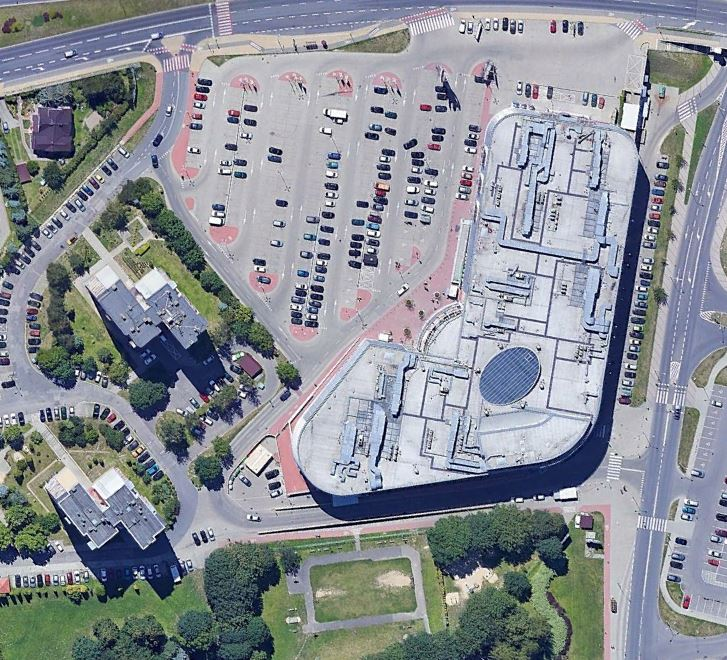block of flats: (77, 261, 209, 354), (40, 464, 169, 556)
family house: (21, 98, 79, 159)
shopping_center: (279, 106, 645, 505)
